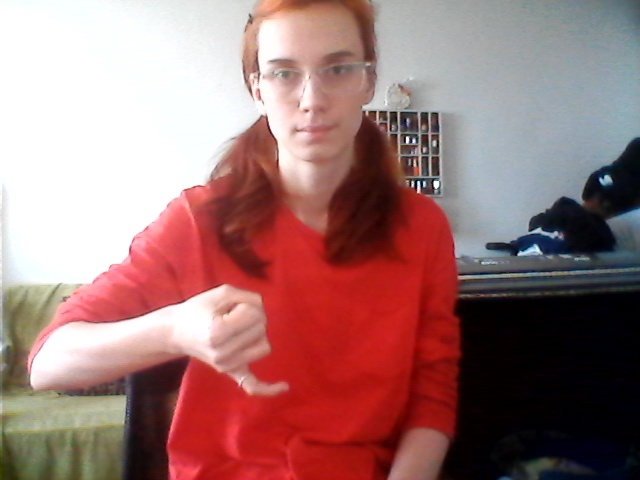j: (172, 272, 311, 408)
